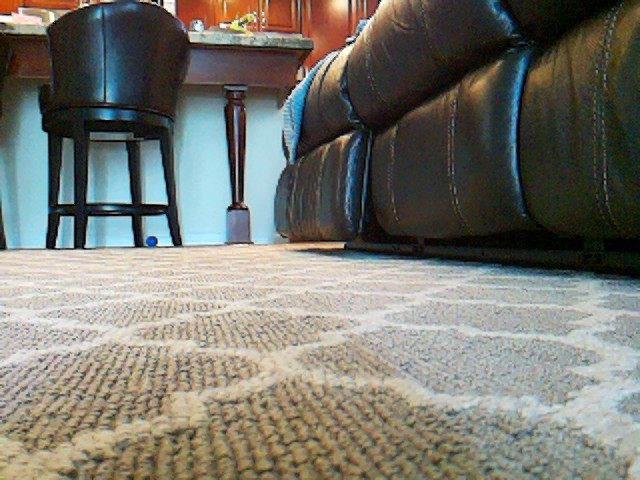Drivable Area: (1, 252, 278, 480), (394, 282, 640, 480), (276, 263, 397, 480)
Obstacle: (0, 0, 636, 238)
